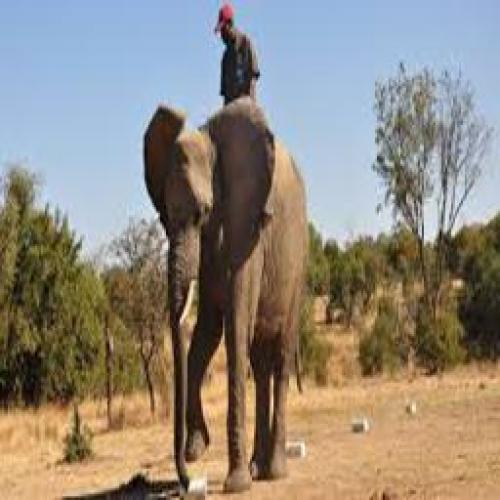african_elephant-endangered: (136, 95, 310, 500)
